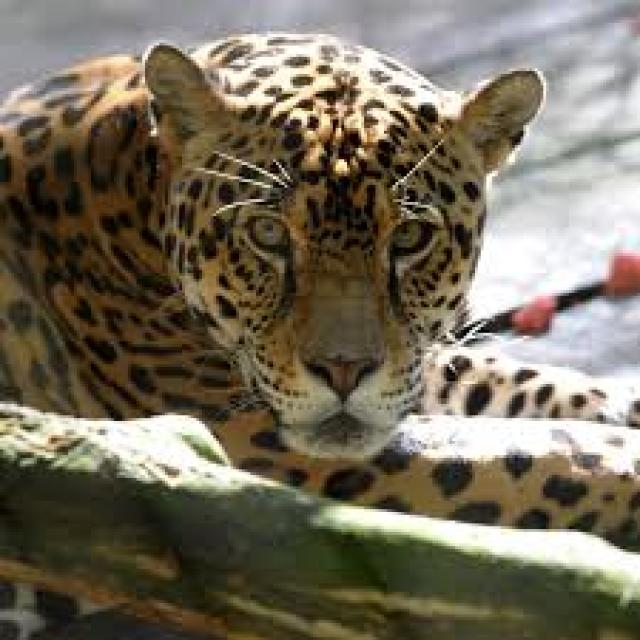Jaguar: (3, 31, 626, 544)
